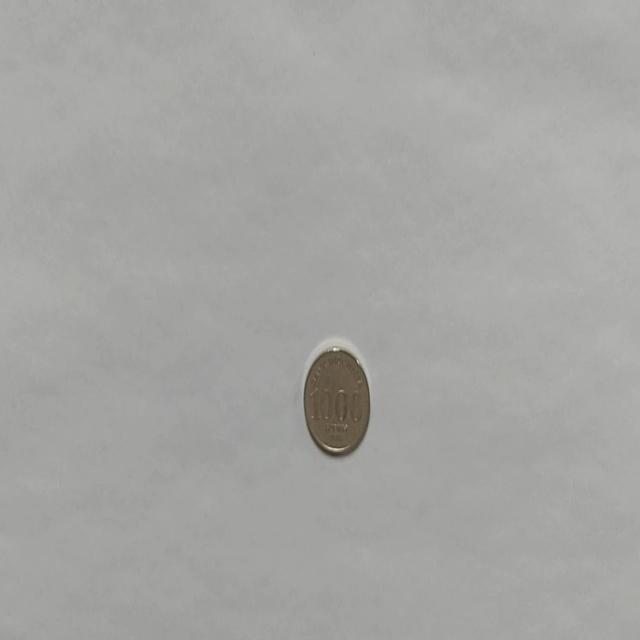seribu rupiah koin: (302, 340, 371, 457)
